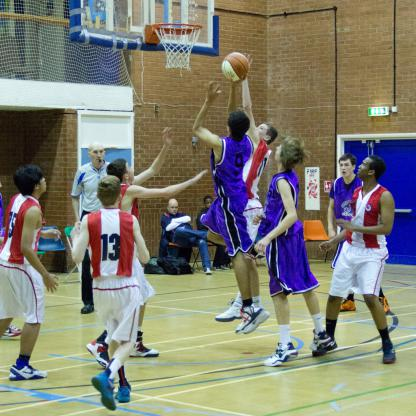Ball: (221, 49, 253, 83)
